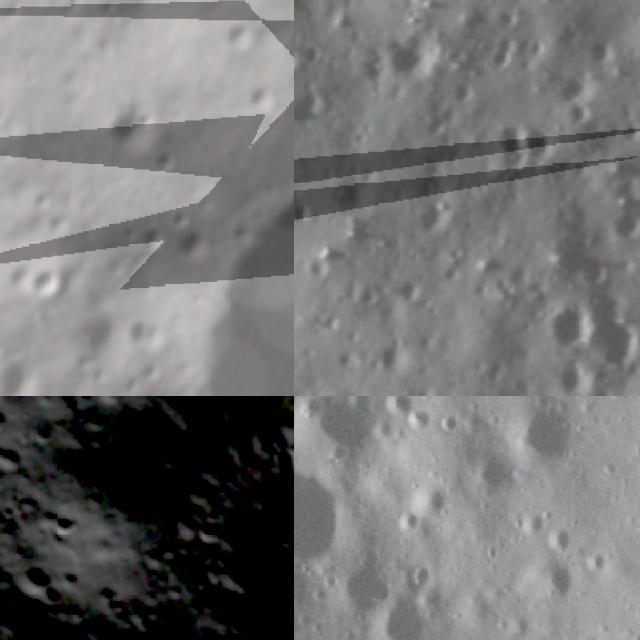crater: (154, 154, 294, 396), (294, 457, 361, 580), (526, 283, 610, 365), (96, 86, 176, 172), (541, 221, 626, 301), (376, 21, 456, 104), (501, 396, 586, 474), (571, 298, 640, 387), (469, 111, 541, 191), (332, 548, 399, 624), (457, 444, 522, 504), (0, 549, 60, 610), (20, 250, 79, 312), (367, 587, 435, 640), (524, 553, 582, 609), (363, 330, 418, 387), (117, 308, 177, 360), (236, 74, 294, 126), (36, 501, 88, 552), (542, 354, 605, 396), (217, 15, 268, 66), (0, 349, 55, 396), (426, 372, 532, 396), (130, 213, 178, 264), (599, 197, 640, 256), (406, 474, 456, 520), (510, 494, 553, 544), (144, 140, 193, 181), (173, 221, 217, 264), (162, 198, 205, 238), (294, 33, 335, 72), (541, 522, 578, 560), (378, 396, 421, 422), (394, 506, 426, 536), (0, 396, 15, 447), (567, 626, 609, 640), (294, 34, 304, 82)
